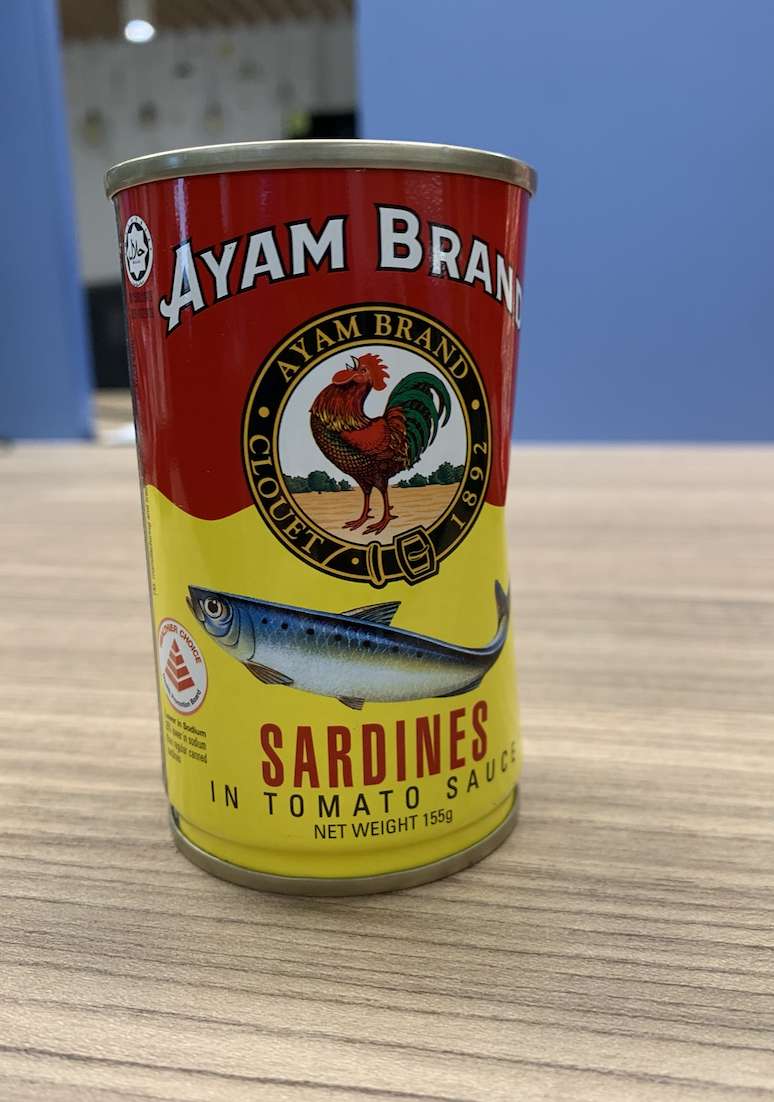sardines_100g-199g: (158, 189, 513, 847)
